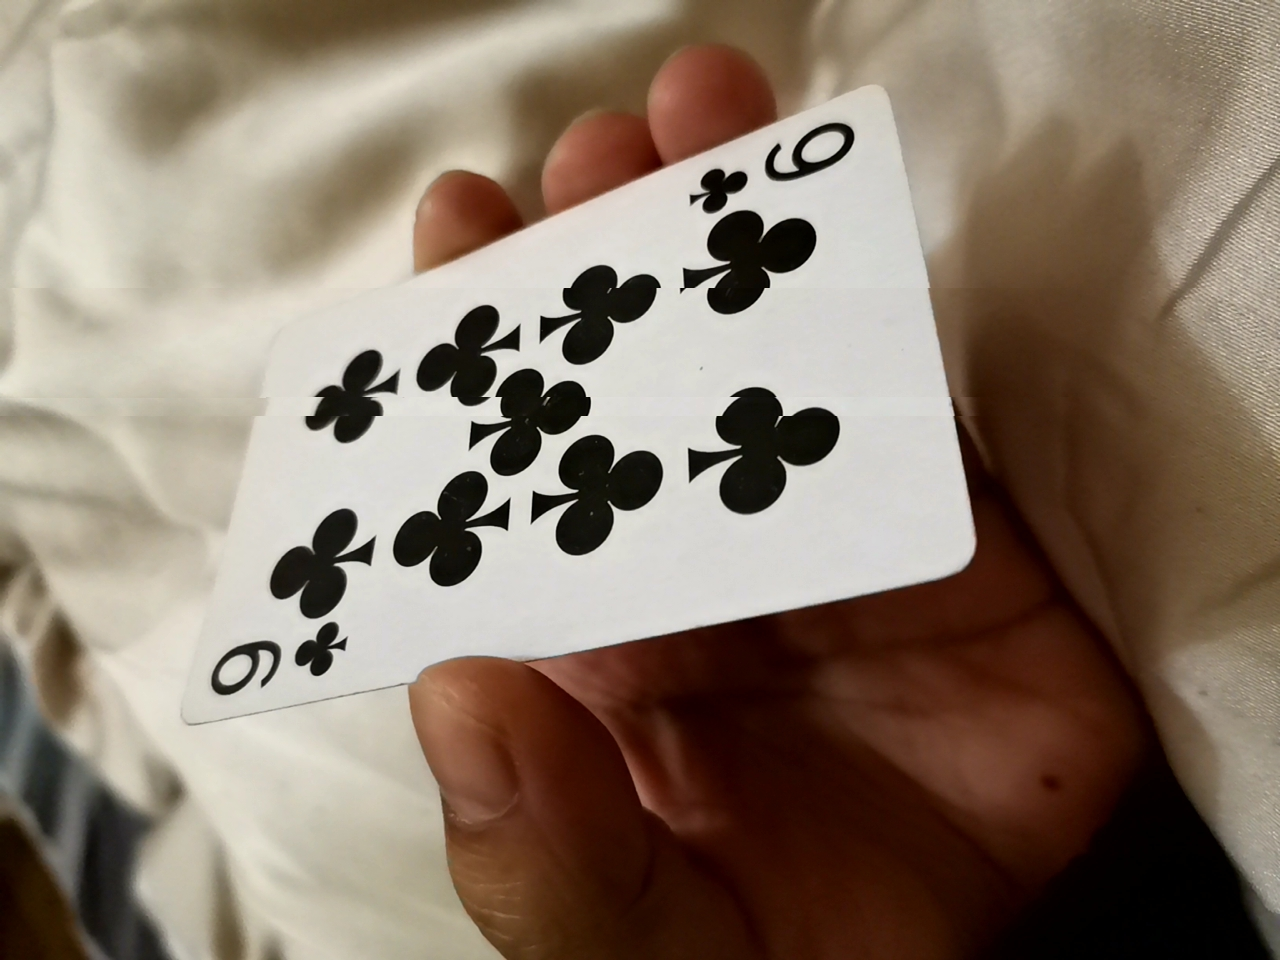mh 9: (186, 101, 967, 720)
